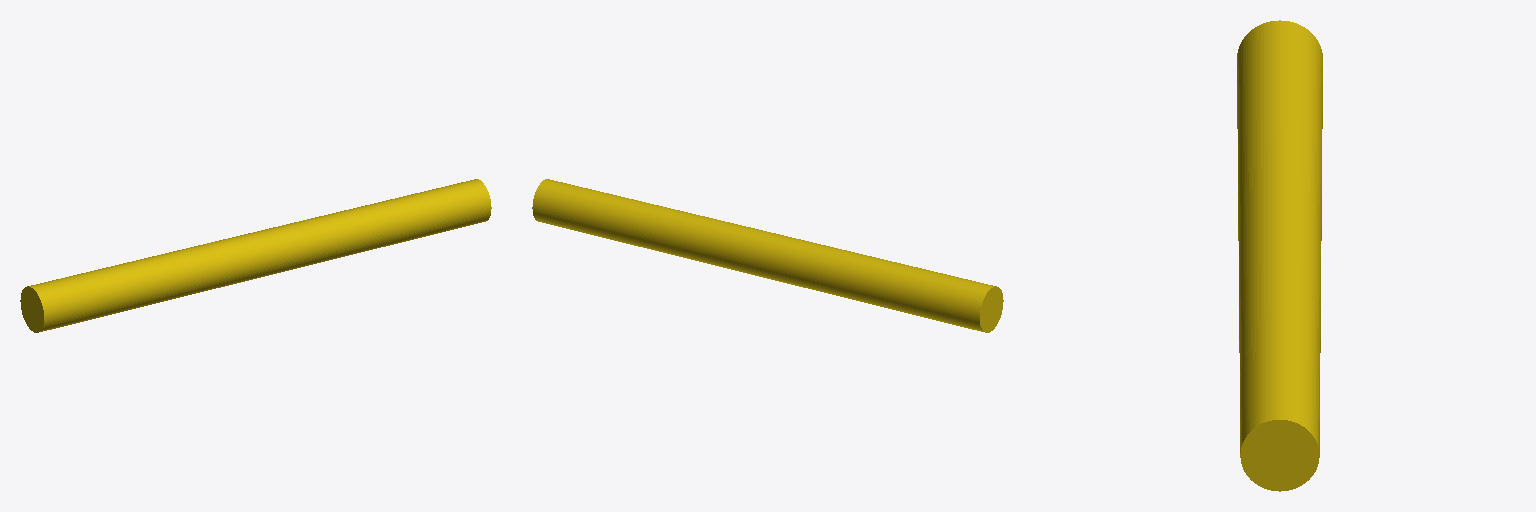
URDF robot description (cb_chopstick_t45rd130):
<?xml version="1.0"?>
<!-- ContactBench chopstick. Generated by FoundationTouch tools/contactbench/make_contactbench_assets.py -->
<robot name="cb_chopstick_t45rd130">
  <material name="c"><color rgba="0.85 0.75 0.10 1.0"/></material>
  <link name="object">
    <visual><origin xyz="0 0 0" rpy="0 0 0"/><geometry><mesh filename="chopstick.obj" scale="1 1 1"/></geometry><material name="c"/></visual>
    <collision><origin xyz="0 0 0" rpy="0 0 0"/><geometry><mesh filename="coll_00.obj" scale="1 1 1"/></geometry></collision>
    <inertial><mass value="1.627503e-03"/><origin xyz="0 0 0" rpy="0 0 0"/><inertia ixx="7.780399e-09" ixy="-1.838613e-24" ixz="-8.775197e-25" iyy="6.671492e-07" iyz="2.872832e-26" izz="6.671492e-07"/></inertial>
  </link>
</robot>

--- What the picture shows (computed from the rendered views, not written in the file) ---
The picture shows the robot from 3 angles, left to right: view 1: azimuth 30°, elevation 25°; view 2: azimuth 150°, elevation 25°; view 3: azimuth 270°, elevation 25°; orthographic projection.
Robot: cb_chopstick_t45rd130 — 1 links, 0 joints (none); root link object; default pose: every joint at zero.
Visible links, largest first — view 1: object; view 2: object; view 3: object.
Boxes of the visible links, bbox=[...] form: object: bbox=[20, 179, 491, 332]; object: bbox=[532, 179, 1003, 332]; object: bbox=[1237, 20, 1322, 491].
Size in the robot's own frame: 0.07 by 0.0064 by 0.0064 metres.
Meshes: 1 distinct files referenced, 1 mesh visuals loaded (1 OBJ).
